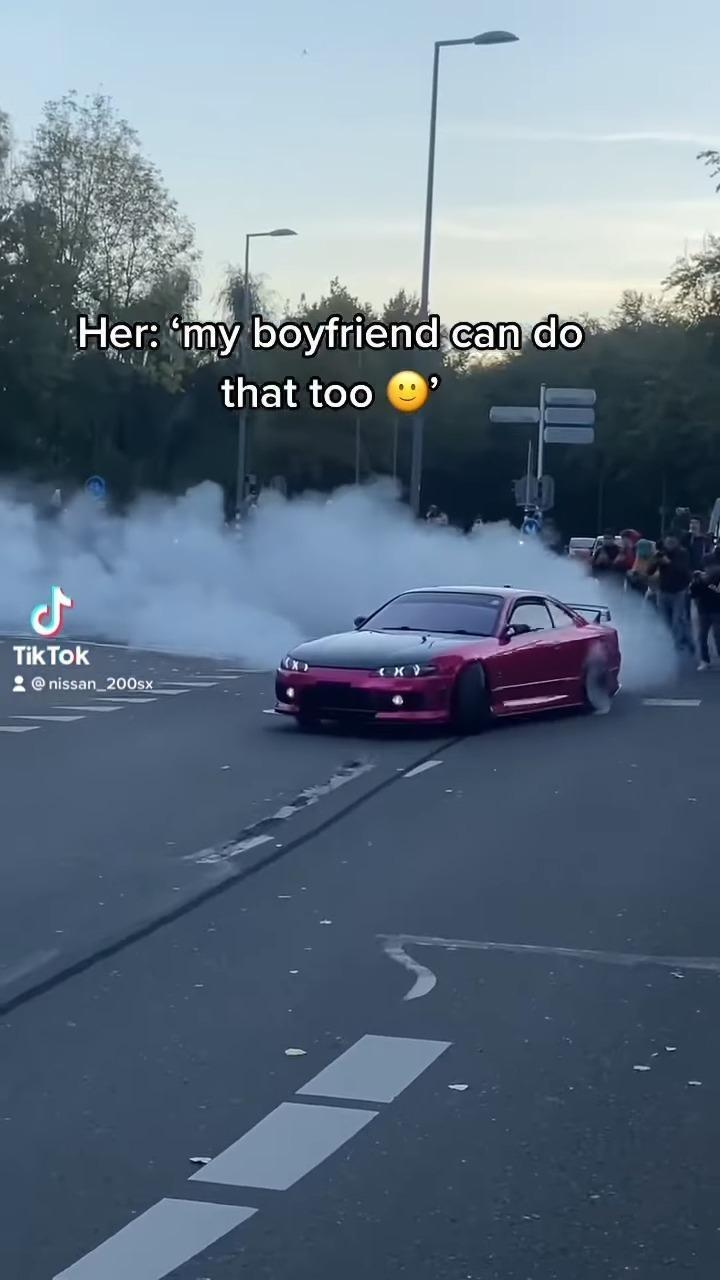Car: (267, 583, 625, 745)
